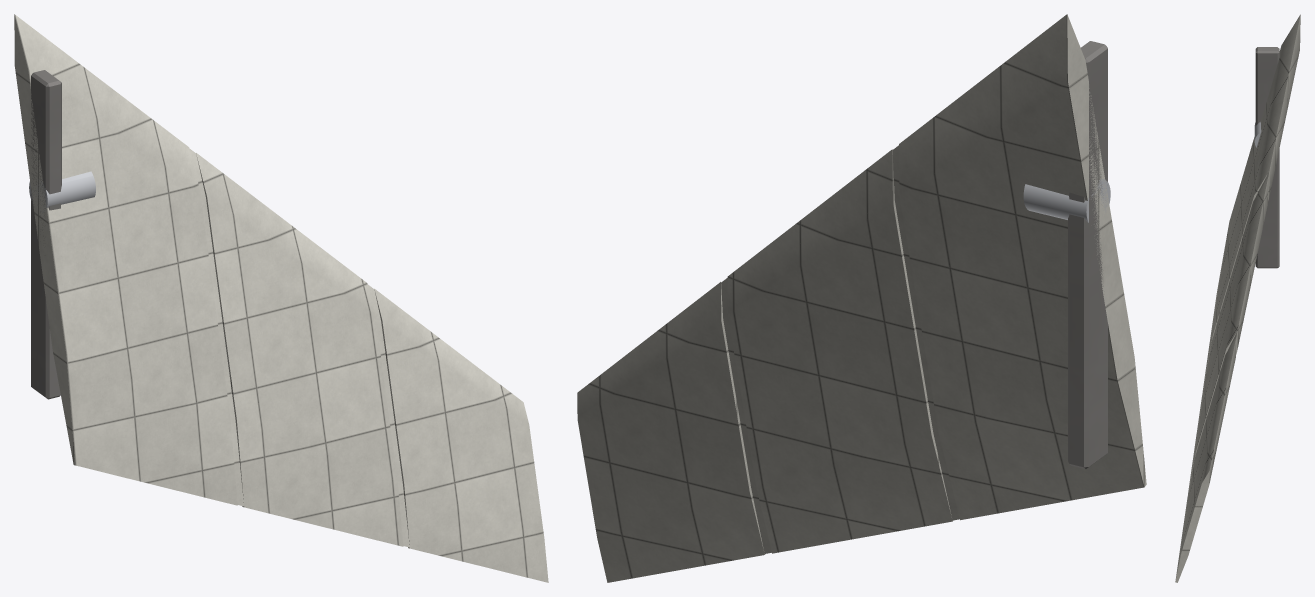
The model's file is ax_aero_22_tlc_canard_defl_neg.glb.
The picture shows the model from 3 angles, left to right: view 1: azimuth 30°, elevation 25°; view 2: azimuth 150°, elevation 25°; view 3: azimuth 270°, elevation 25°; orthographic projection. The views are drawn at different scales.
Visible parts, largest first — view 1: wing_top, root_flange, wing_underside, pivot_shaft; view 2: wing_underside, root_flange, wing_top, pivot_shaft; view 3: wing_top, root_flange, wing_underside.
Boxes of the visible parts, x1,y1,x2,y2 form: wing_top: (14,14,548,582); root_flange: (31,70,61,399); wing_underside: (14,15,408,548); pivot_shaft: (29,171,95,212); wing_underside: (577,14,1145,582); root_flange: (1068,41,1107,469); wing_top: (1067,15,1146,485); pivot_shaft: (1023,179,1110,222); wing_top: (1175,14,1300,582); root_flange: (1255,47,1279,268); wing_underside: (1176,15,1300,582).
Size of the model in its own units: 1.1 by 1.45 by 0.3921.
Materials: 3 (3 with a texture image).
